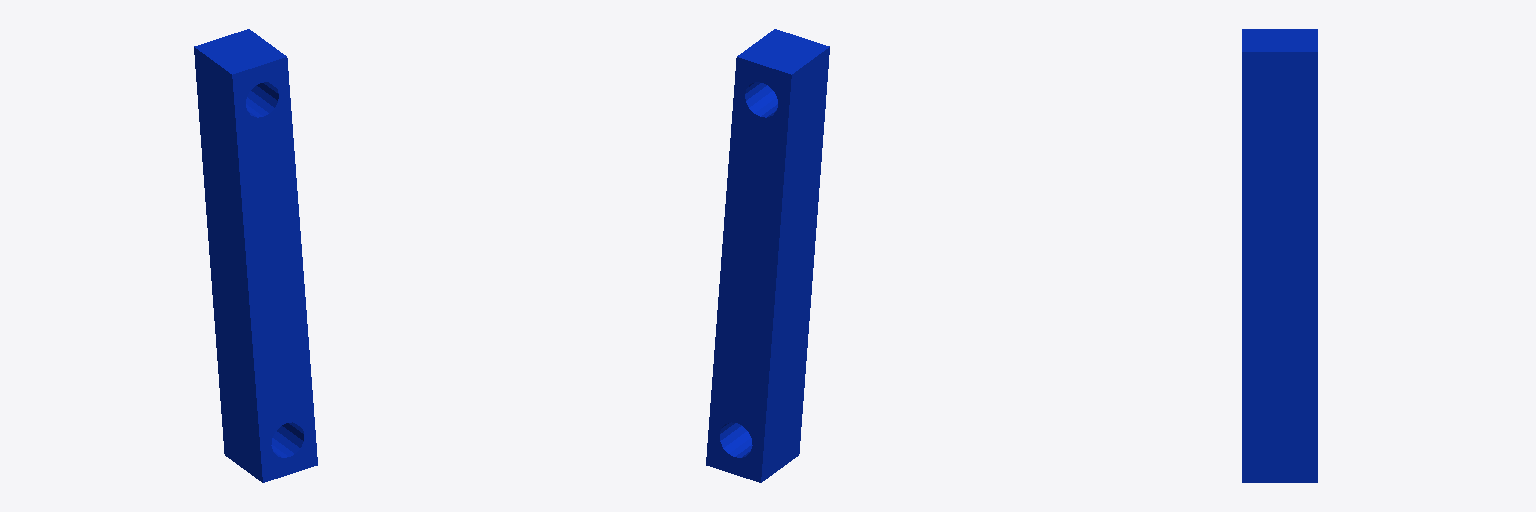
Rendered from connector.obj.
The picture shows the model from 3 angles: view 1: azimuth 30°, elevation 25°; view 2: azimuth 150°, elevation 25°; view 3: azimuth 270°, elevation 25°; orthographic projection.
Visible parts, largest first — view 1: connector; view 2: connector; view 3: connector.
Boxes of the visible parts, <box> form: connector: <box>194,29,317,482</box>; connector: <box>706,29,829,482</box>; connector: <box>1242,29,1317,482</box>.
Size of the model in its own units: 0.1552 by 0.7256 by 0.12.